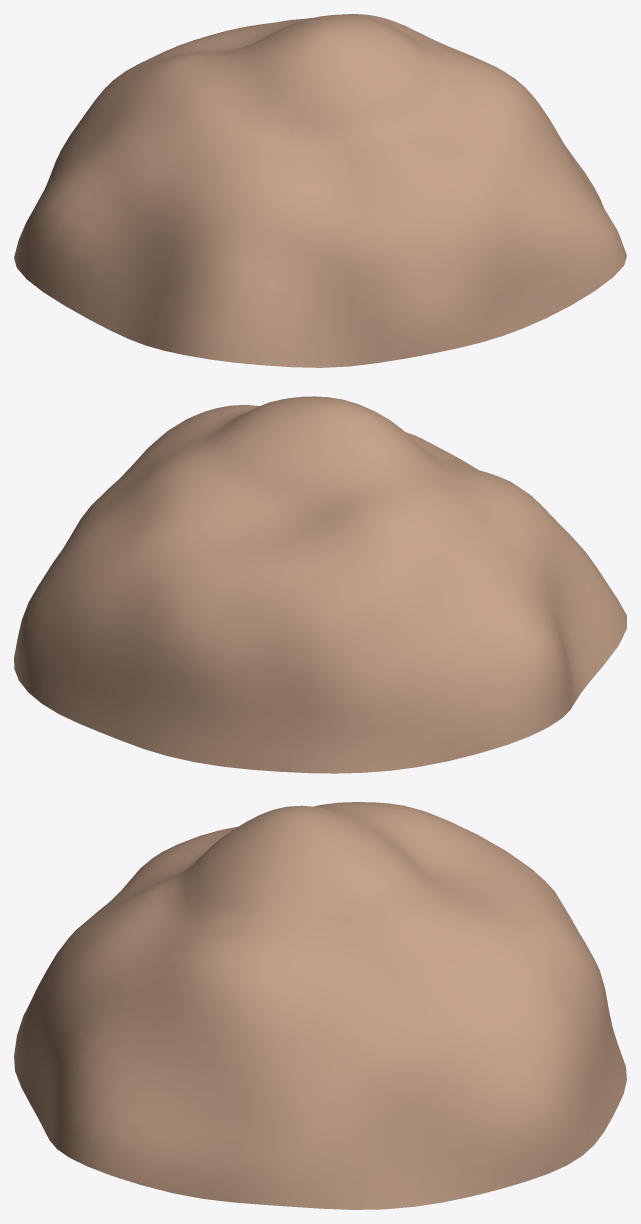
File: Ground.fbx
3 renders of one model, top to bottom at view 1: azimuth 30°, elevation 25°; view 2: azimuth 150°, elevation 25°; view 3: azimuth 270°, elevation 25°, orthographic. The views are drawn at different scales.
Visible parts, largest first — view 1: Ground; view 2: Ground; view 3: Ground.
Part boxes in pixels (bbox=[...]): Ground: bbox=[14, 14, 626, 367]; Ground: bbox=[14, 396, 626, 773]; Ground: bbox=[14, 802, 626, 1209].
Bounding box in the file's own units: 119 × 51.89 × 110.
